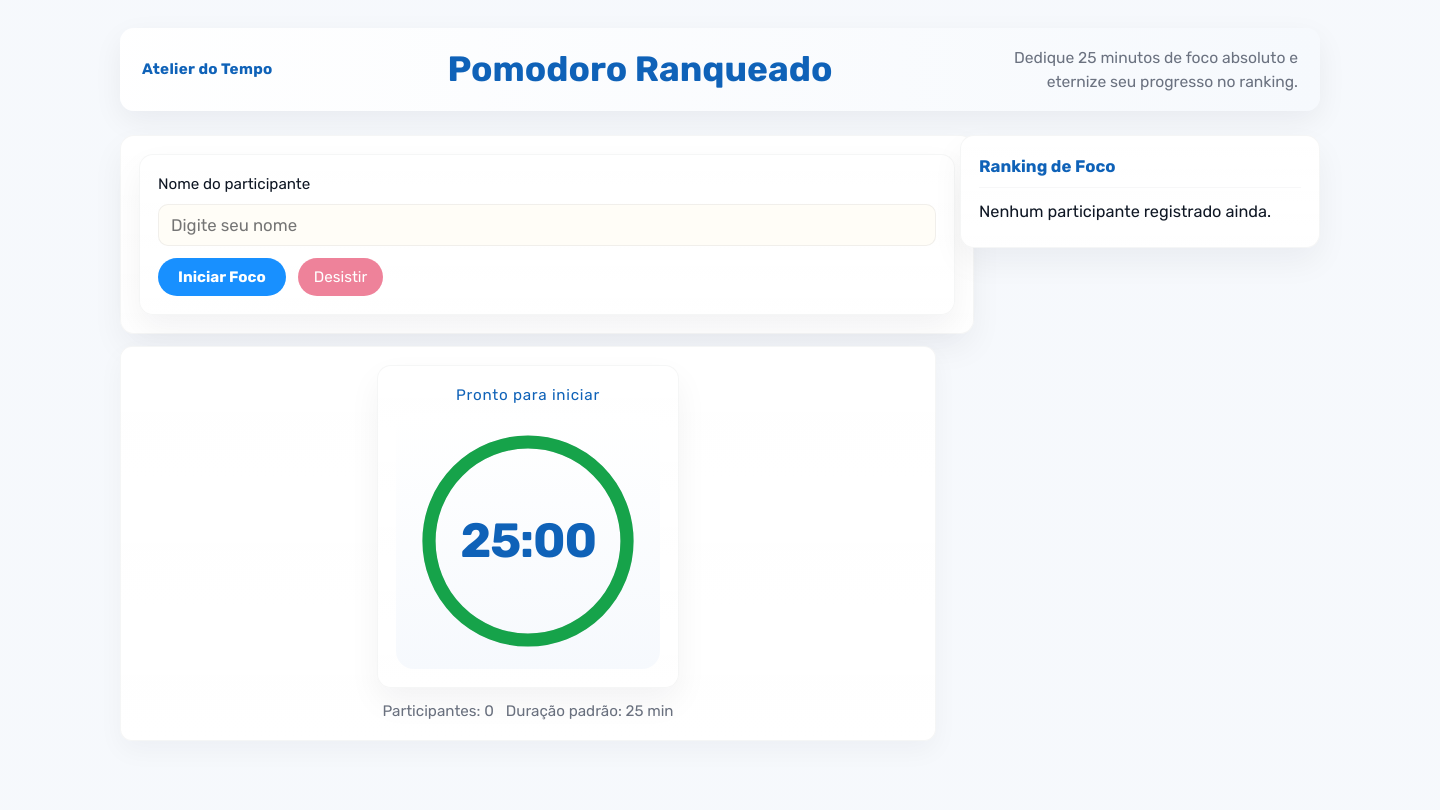
Scenario: execução da sessão › atualiza a contagem e conclui a sessão
Type "Ana" into the field labelled "Nome do participante".
click(547, 225); type("Ana")  # box [158,204,936,246]
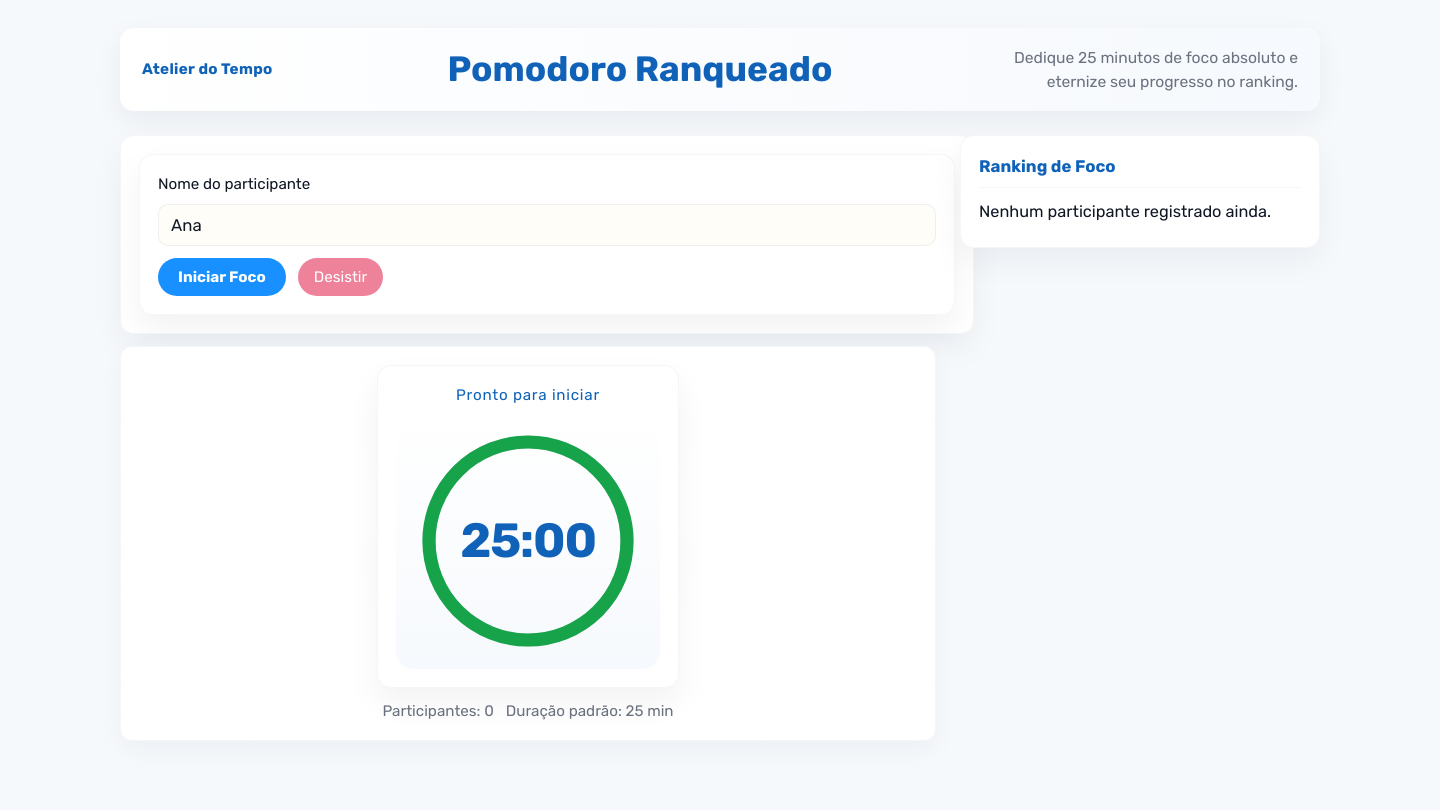
Click the button "Iniciar Foco".
click(222, 277)  # box [158,258,286,296]
Wait 1250 ms
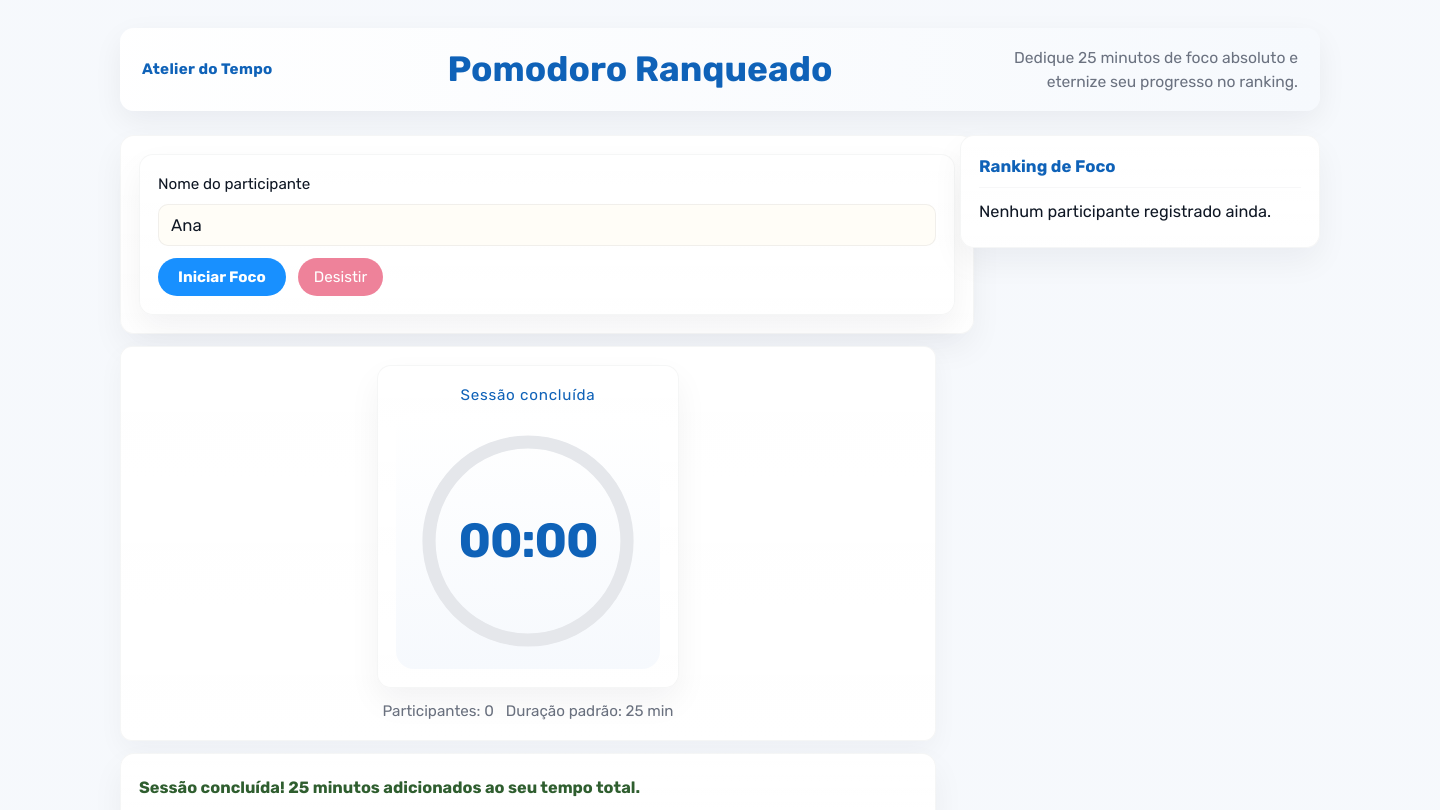
Expected: the text "Sessão concluída" is shown, [460,384,596,407]
Expected: the text "00:00" is shown, [459,512,597,569]
Expected: the text "Sessão concluída! 25 minutos adicionados ao seu tempo total." is shown, [139,778,640,798]
